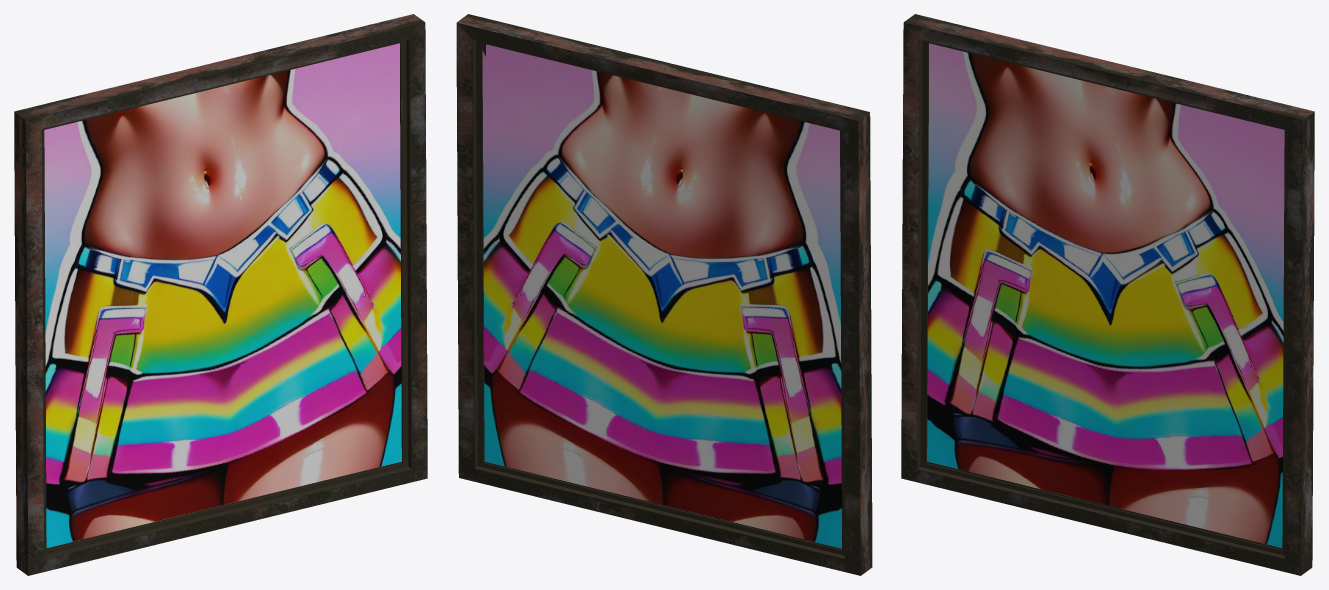
3 views of the same model, side by side, from view 1: azimuth 30°, elevation 25°; view 2: azimuth 150°, elevation 25°; view 3: azimuth 330°, elevation 25° (orthographic).
Parts seen in each view (by area): view 1: Plane.509, 5; view 2: Plane.509, 5; view 3: Plane.509, 5.
Boxes of the visible parts, x1,y1,x2,y2 form: Plane.509: [44, 43, 401, 547]; 5: [14, 14, 427, 575]; Plane.509: [482, 44, 841, 548]; 5: [456, 14, 872, 575]; Plane.509: [927, 43, 1284, 547]; 5: [901, 14, 1314, 575].
Size of the model in its own units: 0.5737 by 0.6234 by 0.0348.
2 materials, 2 textured.
